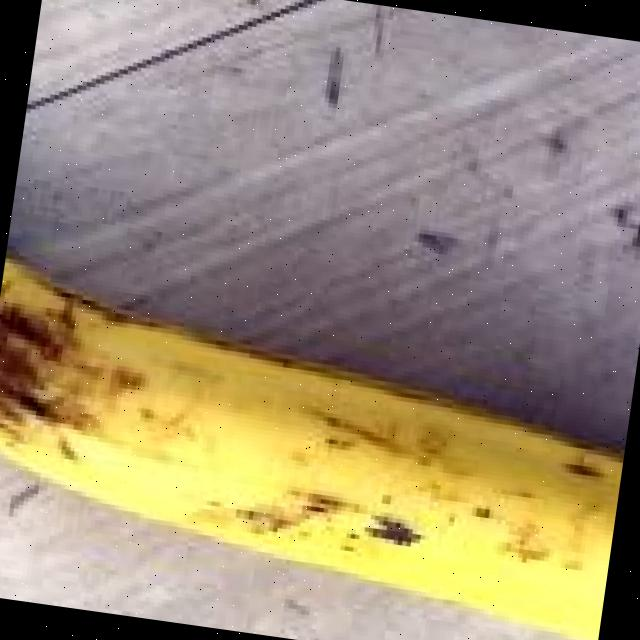Good_Banana-2-3 days: (0, 256, 624, 639)
